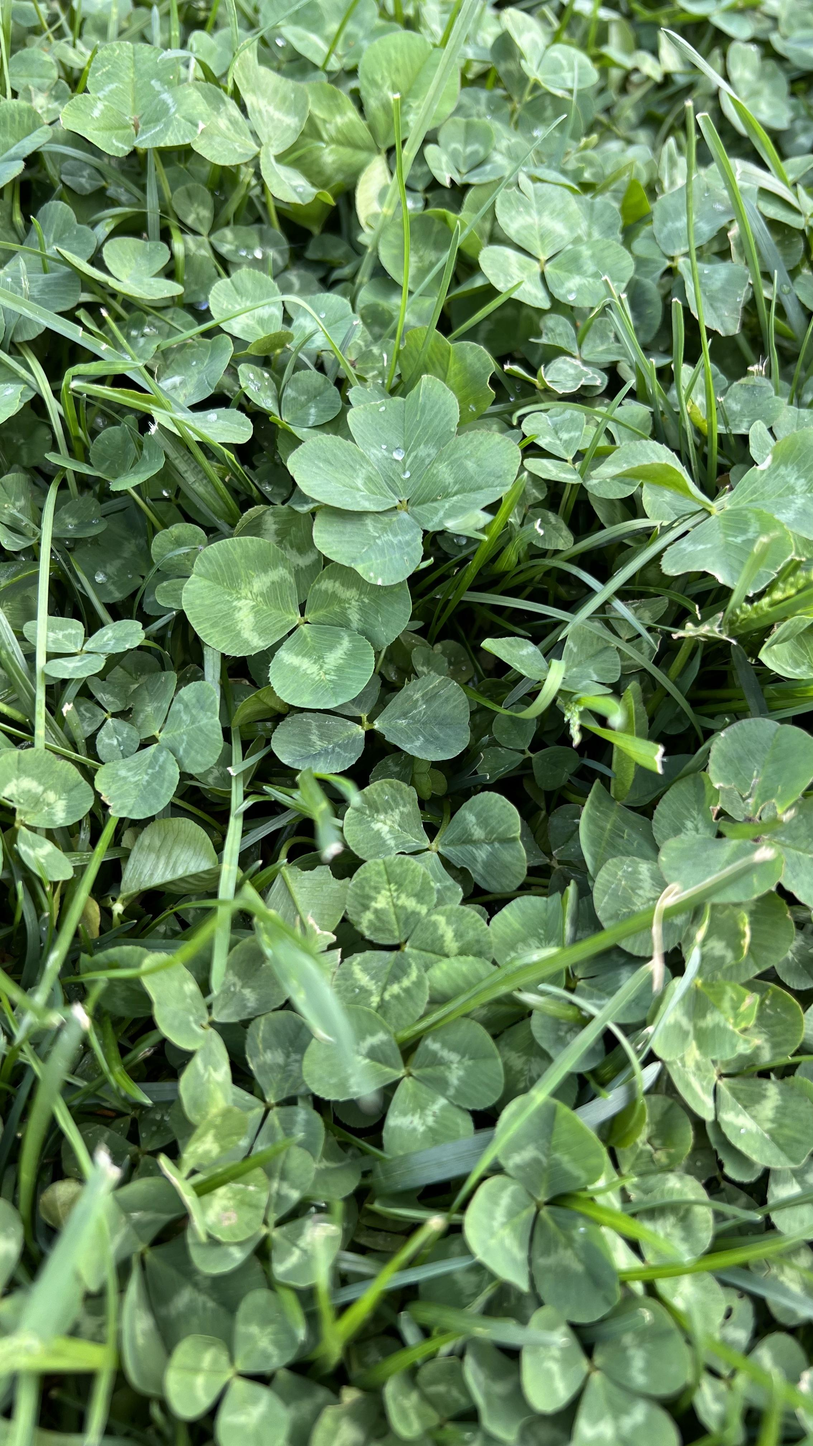4-Leaf-Clovers: (211, 533, 326, 925)
